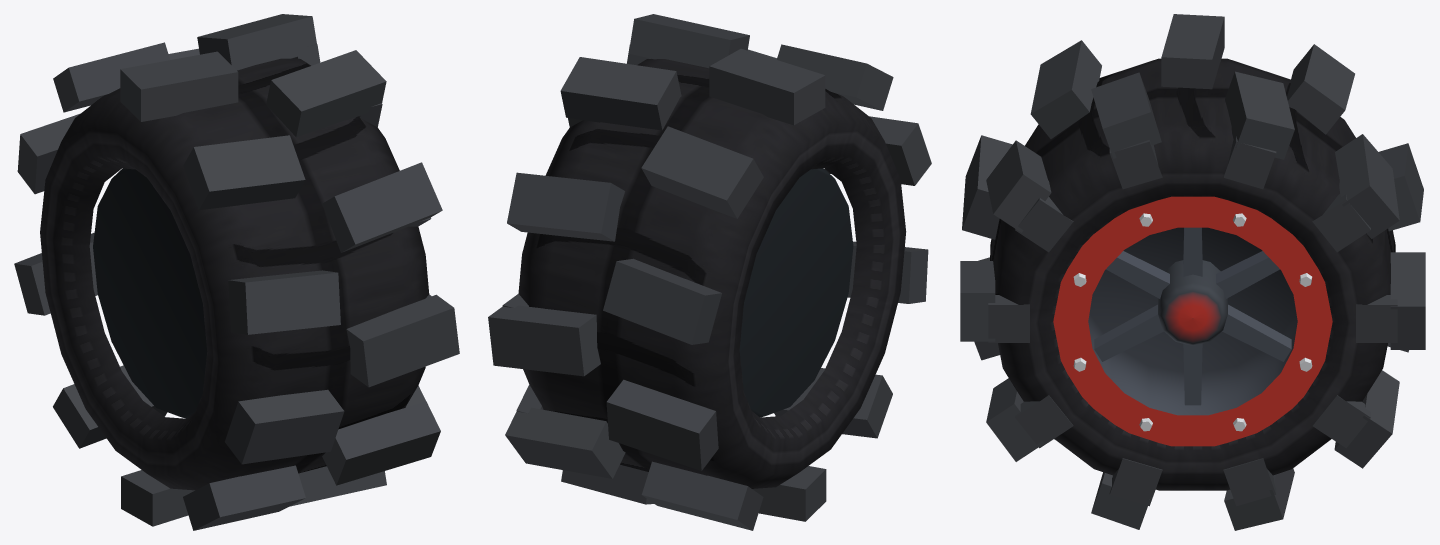
Rendered from offroad.glb.
3 renders of one model, left to right at view 1: azimuth 30°, elevation 25°; view 2: azimuth 150°, elevation 25°; view 3: azimuth 270°, elevation 25°, orthographic. The views are drawn at different scales.
Visible parts, largest first — view 1: tire; view 2: tire; view 3: tire.
Boxes of the visible parts, x1=… form: tire: x1=14, y1=14, x2=459, y2=530; tire: x1=488, y1=14, x2=931, y2=530; tire: x1=960, y1=14, x2=1425, y2=530.
Size of the model in its own units: 1 by 1.98 by 1.98.
5 materials, 1 textured.
